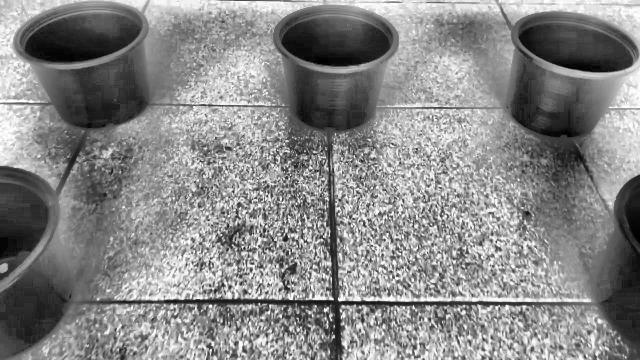pot: (12, 1, 152, 130), (505, 12, 640, 138), (274, 5, 400, 132)
